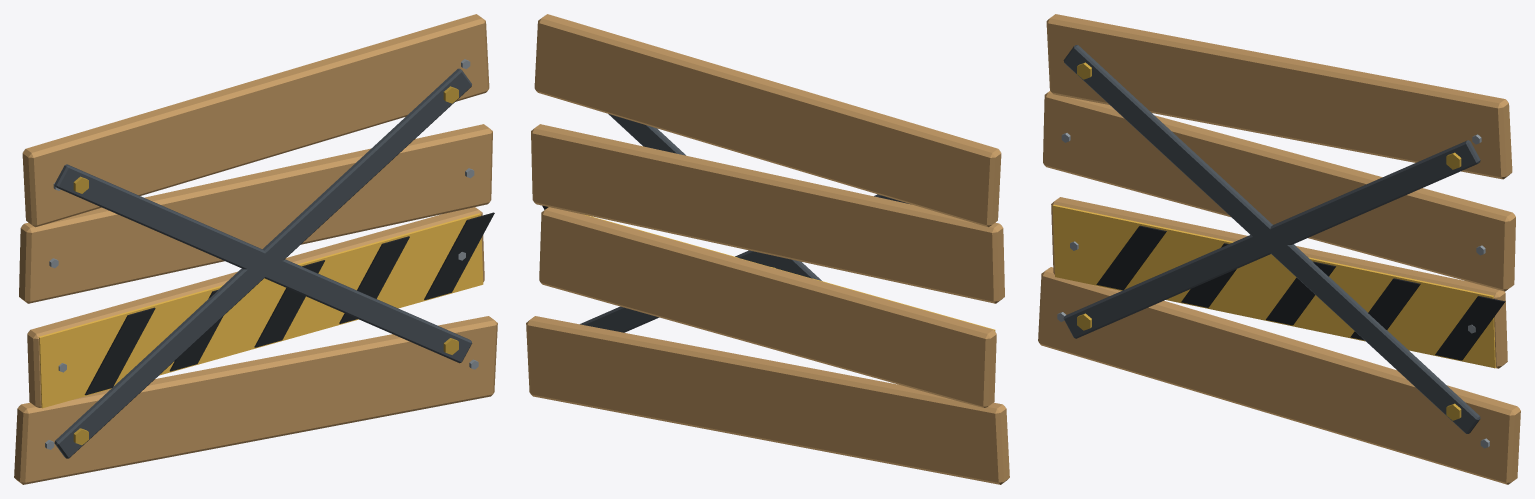
Rendered from Prop_Barricade.fbx.
The picture shows the model from 3 angles, left to right: view 1: azimuth 30°, elevation 25°; view 2: azimuth 150°, elevation 25°; view 3: azimuth 330°, elevation 25°; orthographic projection.
Visible parts, largest first — view 1: Barricade; view 2: Barricade; view 3: Barricade.
Part boxes in pixels (box(x1,y1,x2,y2)): Barricade: box(14, 14, 497, 484); Barricade: box(526, 14, 1009, 484); Barricade: box(1038, 14, 1520, 484).
Size of the model in its own units: 5.63 by 4.28 by 0.33.
